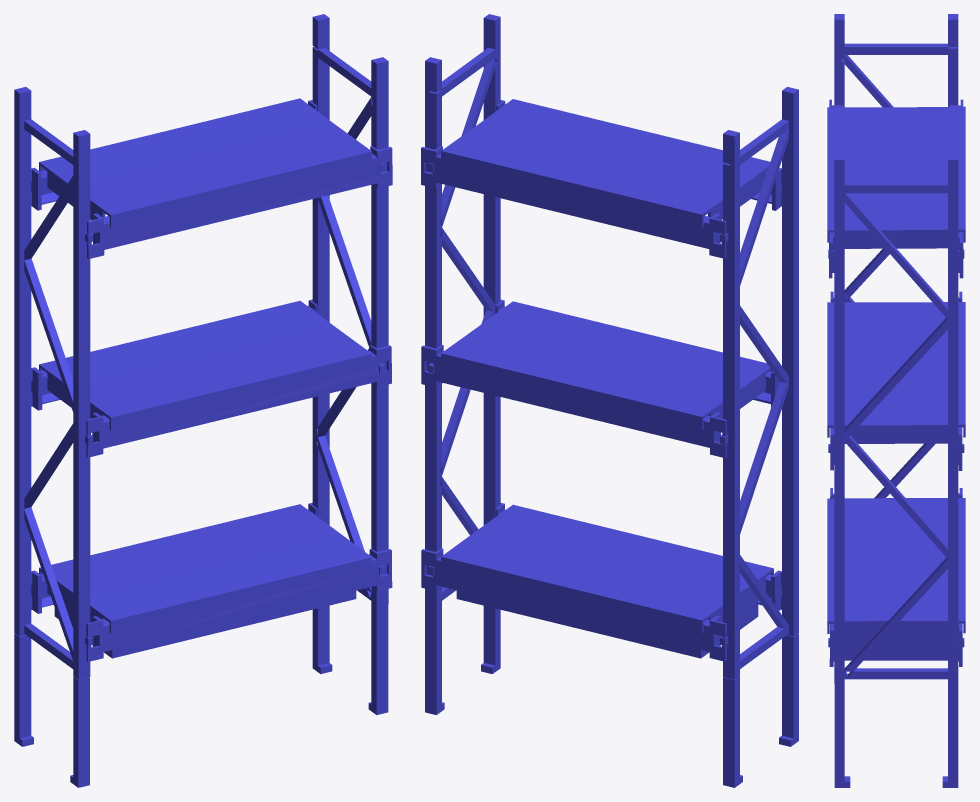
The model's file is shelf.dae.
3 views of the same model, side by side, from view 1: azimuth 30°, elevation 25°; view 2: azimuth 150°, elevation 25°; view 3: azimuth 270°, elevation 25° (orthographic). The views are drawn at different scales.
Visible parts, largest first — view 1: Shelf; view 2: Shelf; view 3: Shelf.
Boxes of the visible parts, bbox=[...] form: Shelf: bbox=[14, 14, 392, 787]; Shelf: bbox=[421, 14, 798, 787]; Shelf: bbox=[827, 14, 965, 787].
Bounding box in the file's own units: 1 × 0.4 × 2.
